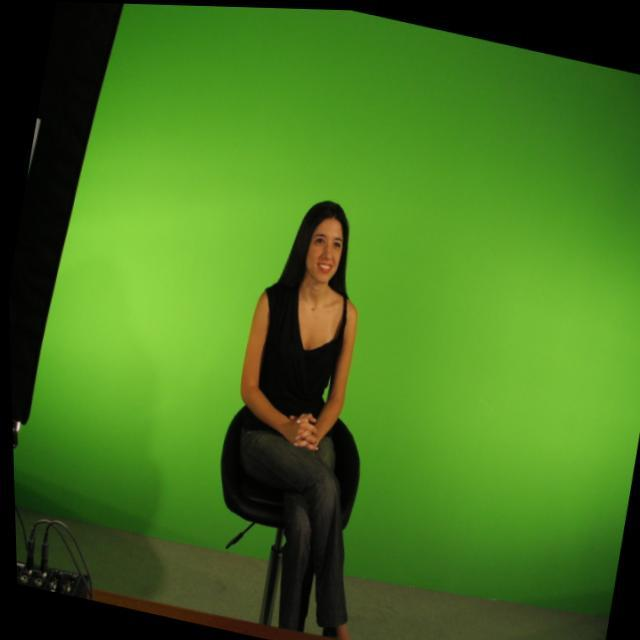Nonhelmet: (288, 192, 360, 292)
